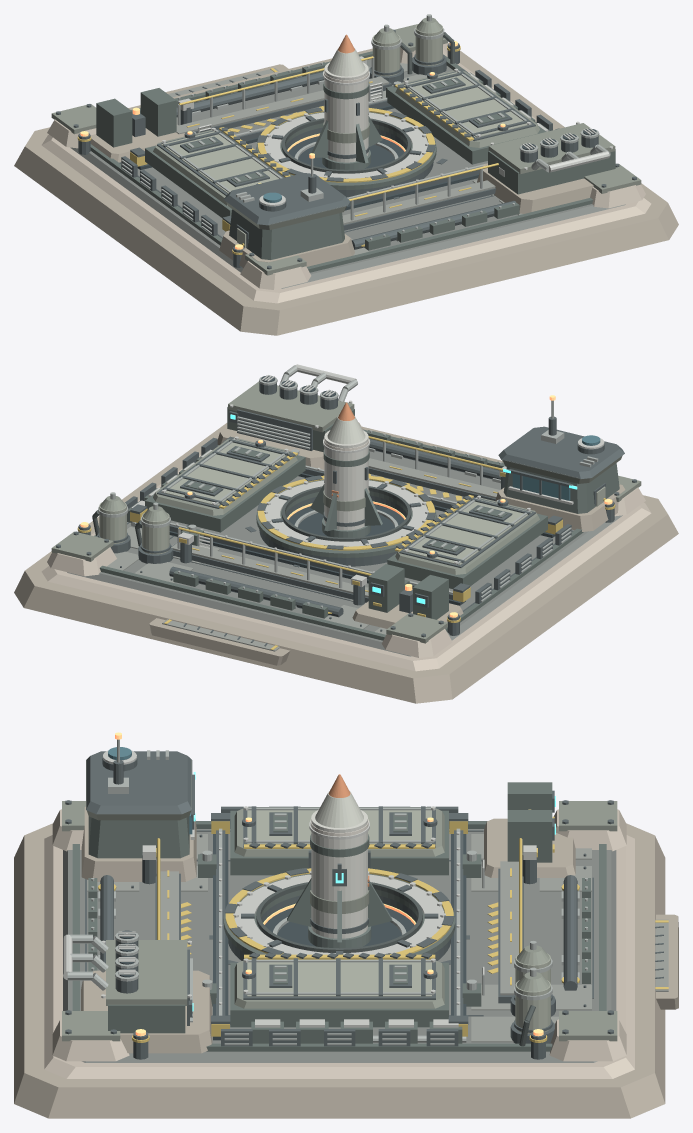
The model's file is silo-open.glb.
The picture shows the model from 3 angles, top to bottom: view 1: azimuth 30°, elevation 25°; view 2: azimuth 150°, elevation 25°; view 3: azimuth 270°, elevation 25°; orthographic projection. The views are drawn at different scales.
Visible parts, largest first — view 1: static__foundation, static__olive_dark, static__steel_dark, static__concrete_high, static__deck, static__olive, static__steel, static__deck_light, static__steel_light, static__yellow, missile__missile_white, blast_door_R__olive_light (+14 smaller); view 2: static__foundation, static__steel_dark, static__olive_dark, static__concrete_high, static__deck, static__olive, static__deck_light, static__steel, static__steel_light, static__yellow, blast_door_R__olive_dark, blast_door_L__steel_dark (+15 smaller); view 3: static__foundation, static__deck, static__steel_dark, static__concrete_high, static__olive_dark, static__olive, static__deck_light, static__steel, static__steel_light, static__yellow, blast_door_R__olive_light, missile__missile_white (+17 smaller).
Part boxes in pixels (<box>): static__foundation: <box>14,42,678,335</box>; static__olive_dark: <box>90,51,615,272</box>; static__steel_dark: <box>56,29,636,269</box>; static__concrete_high: <box>41,43,651,303</box>; static__deck: <box>70,59,625,288</box>; static__olive: <box>51,17,641,275</box>; static__steel: <box>121,14,610,241</box>; static__deck_light: <box>168,62,522,255</box>; static__steel_light: <box>178,56,612,206</box>; static__yellow: <box>77,46,498,254</box>; missile__missile_white: <box>324,62,368,162</box>; blast_door_R__olive_light: <box>403,71,531,138</box>; static__foundation: <box>14,422,678,703</box>; static__steel_dark: <box>56,383,636,646</box>; static__olive_dark: <box>94,407,619,640</box>; static__concrete_high: <box>41,454,651,671</box>; static__deck: <box>67,444,622,656</box>; static__olive: <box>51,381,641,643</box>; static__deck_light: <box>107,458,499,651</box>; static__steel: <box>98,365,598,608</box>; static__steel_light: <box>131,364,604,590</box>; static__yellow: <box>77,436,615,649</box>; blast_door_R__olive_dark: <box>145,438,305,532</box>; blast_door_L__steel_dark: <box>396,495,535,567</box>; static__foundation: <box>14,806,678,1118</box>; static__deck: <box>63,829,616,1062</box>; static__steel_dark: <box>65,751,663,1059</box>; static__concrete_high: <box>44,809,634,1078</box>; static__olive_dark: <box>72,782,606,1051</box>; static__olive: <box>62,760,617,1041</box>; static__deck_light: <box>87,834,668,1042</box>; static__steel: <box>67,739,587,1045</box>; static__steel_light: <box>63,750,536,1027</box>; static__yellow: <box>98,816,668,1042</box>; blast_door_R__olive_light: <box>247,962,431,996</box>; missile__missile_white: <box>311,809,367,938</box>.
Bounding box in the file's own units: 19 × 6.64 × 19.4.
